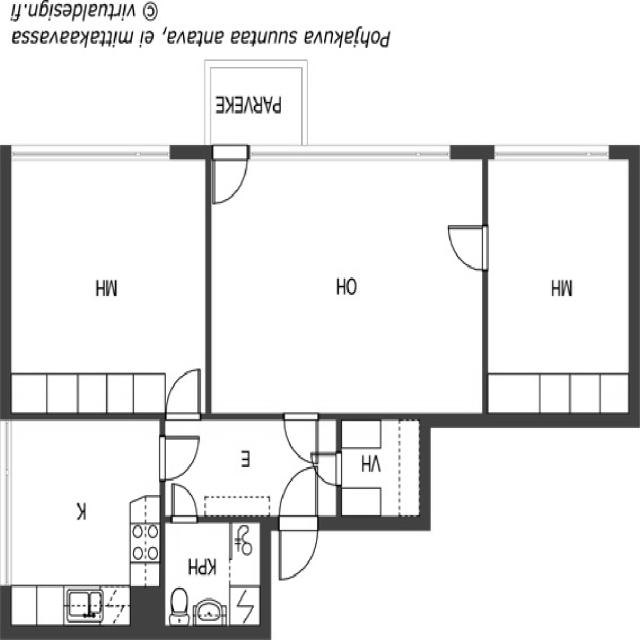door: (272, 470, 322, 586), (207, 144, 251, 207), (443, 218, 492, 273), (156, 429, 204, 483), (164, 364, 204, 426), (275, 466, 319, 520), (277, 409, 319, 462), (311, 448, 348, 493), (167, 478, 201, 525)
window: (20, 140, 177, 170), (489, 138, 615, 168), (0, 418, 19, 594)
zone: (210, 162, 491, 420), (8, 156, 210, 416), (485, 154, 632, 414), (0, 414, 165, 630), (162, 517, 262, 632), (338, 414, 422, 526)
